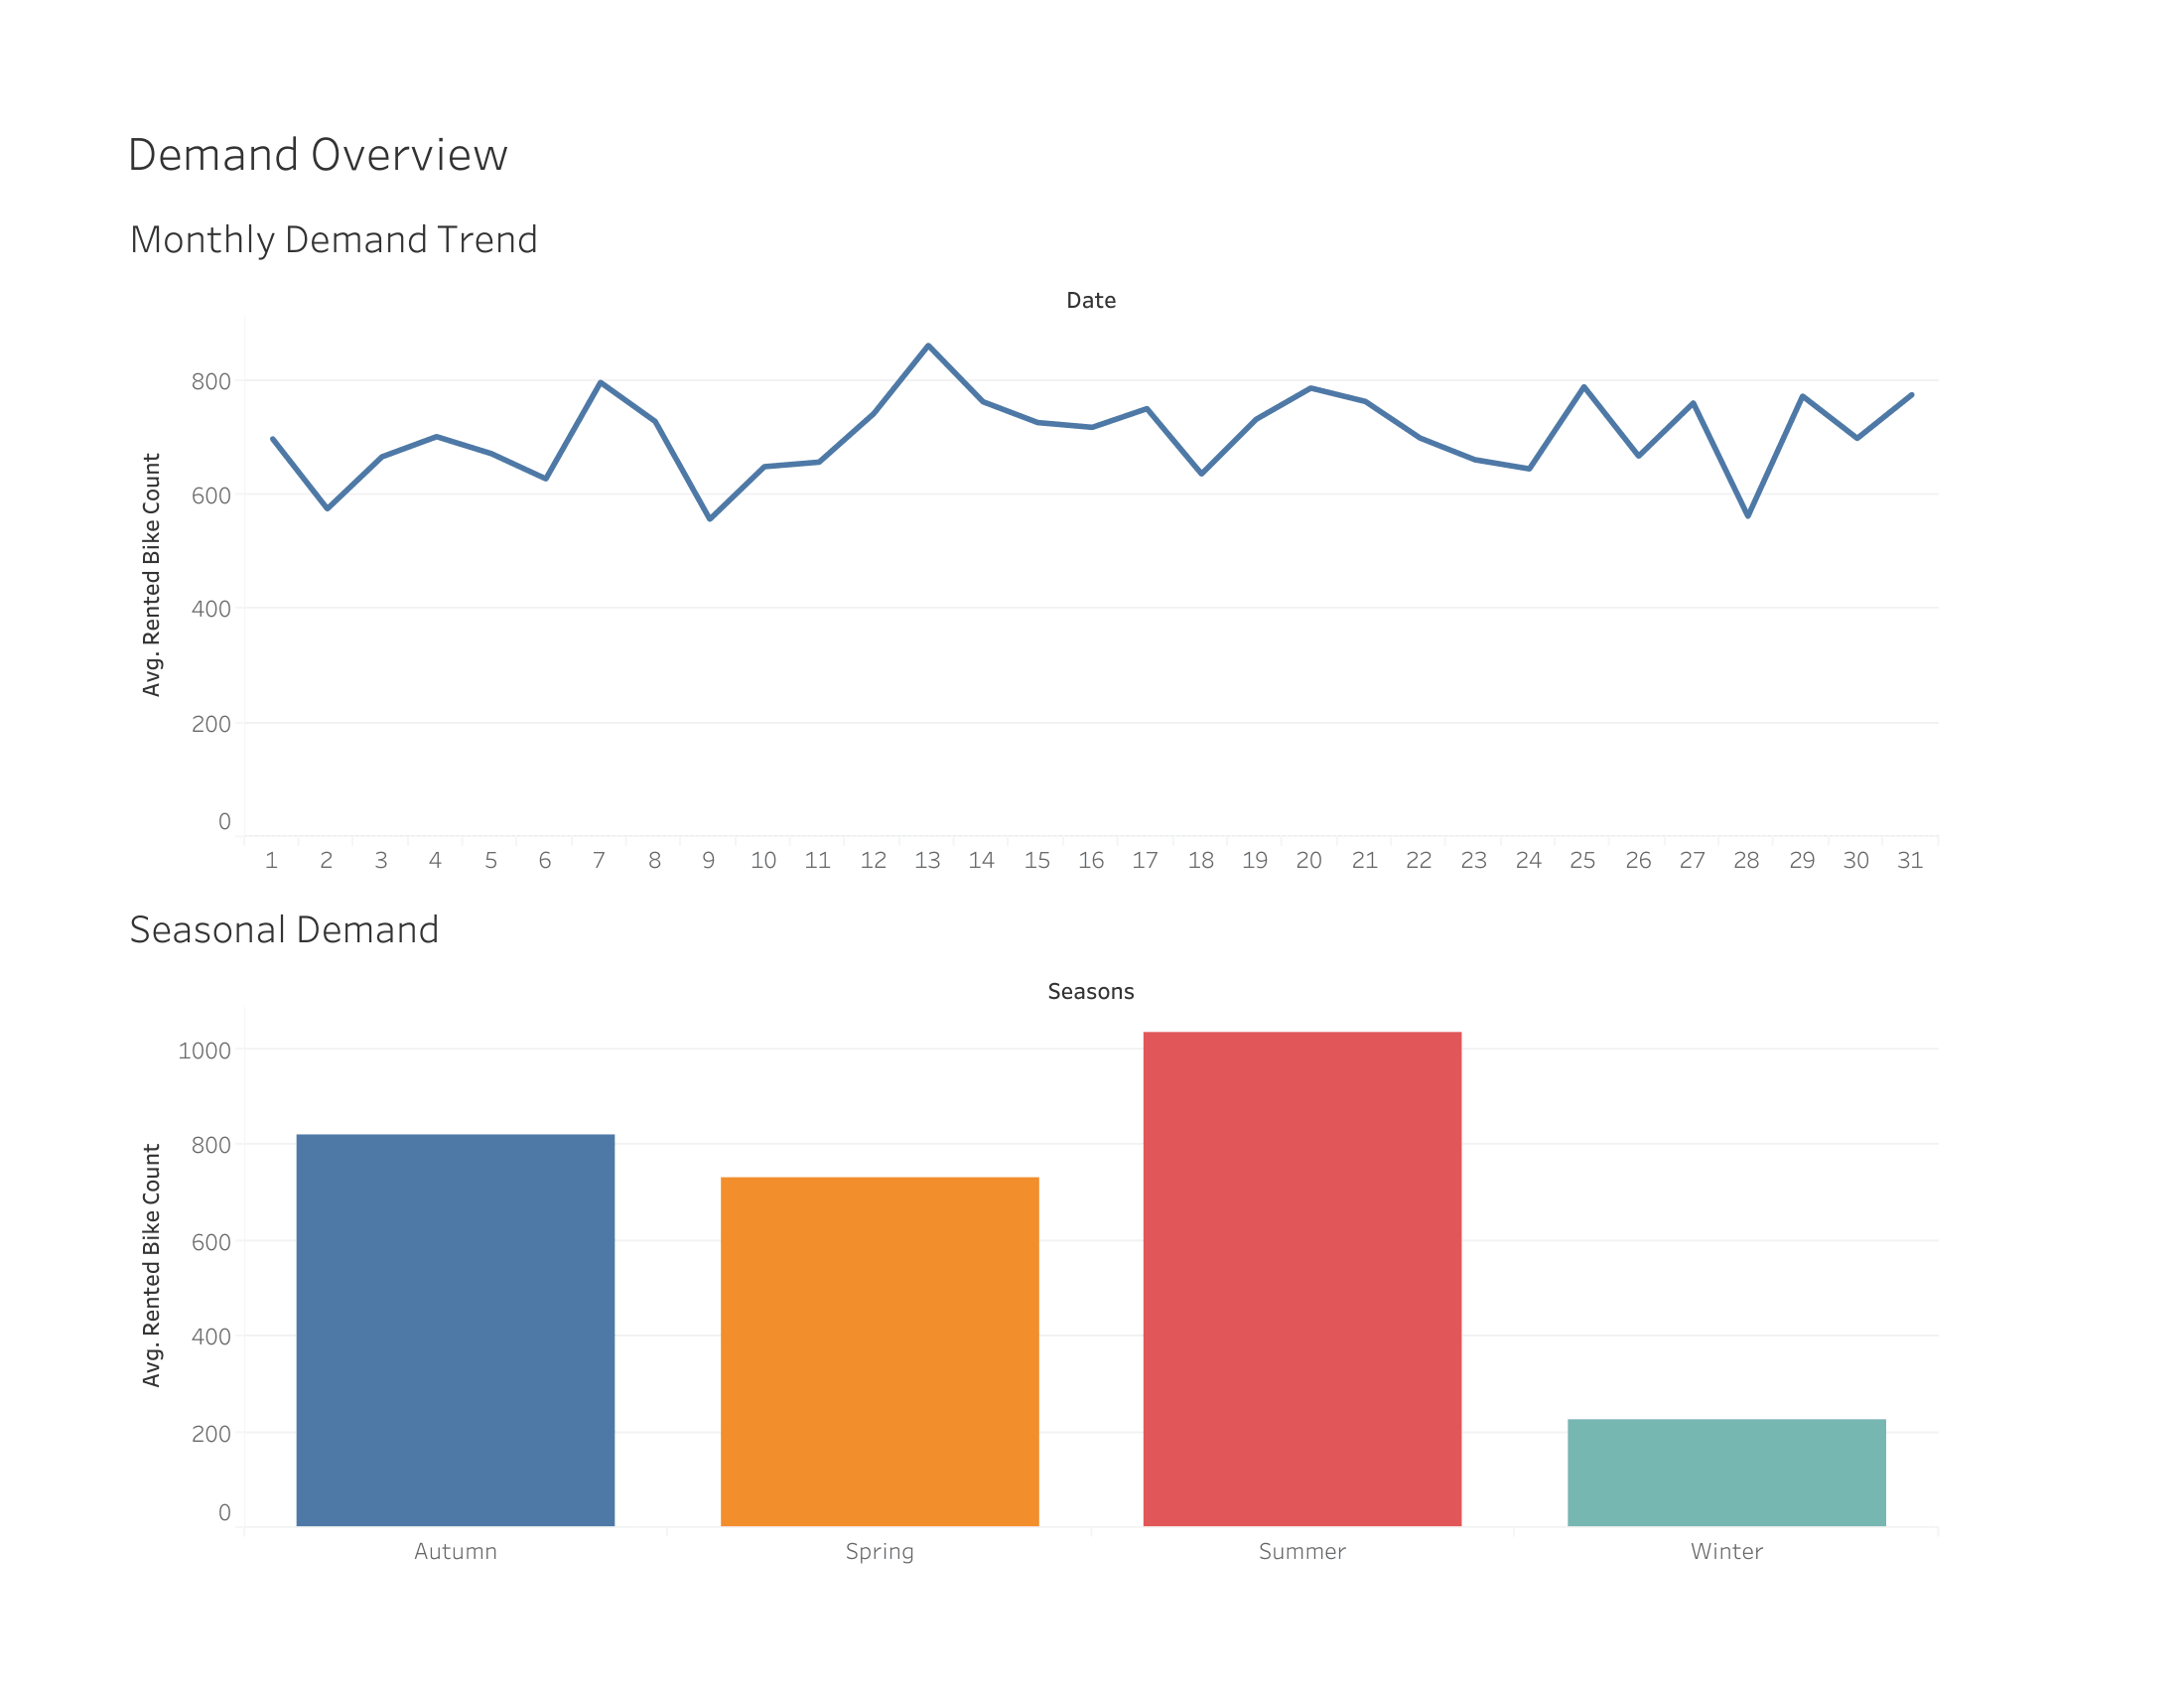

The dashboard page shown, as its layout file describes it:
{"tool":"tableau","page":{"name":"Demand Overview","canvas":[1000,800],"ordinal":0},"visuals":[{"type":"title","box":[8,8,984,42]},{"type":"worksheet","title":"Monthly Demand Trend","mark":"Automatic","rows":["Rented Bike Count"],"cols":["Date"],"box":[8,50,984,371]},{"type":"worksheet","title":"Seasonal Demand","mark":"Automatic","rows":["Rented Bike Count"],"cols":["Seasons"],"box":[8,421,984,371]}]}

Visuals, with their boxes on the page's 1000x800 design canvas (x1, y1, x2, y2). These are canvas units, not pixel positions in the 2184x1688 screenshot, which may show the page scaled, cropped or inside an application window:
title: 8 8 992 50
"Monthly Demand Trend" worksheet: 8 50 992 421
"Seasonal Demand" worksheet: 8 421 992 792
